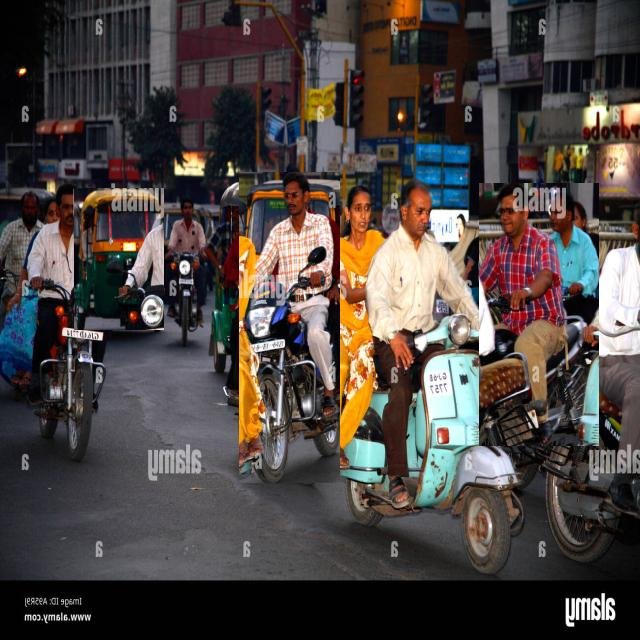autorickshaw: (204, 174, 334, 378), (74, 188, 164, 330)
motorcycle: (340, 178, 525, 574), (535, 221, 640, 560), (479, 183, 599, 446), (239, 173, 340, 483), (28, 185, 119, 461), (165, 197, 205, 346)
